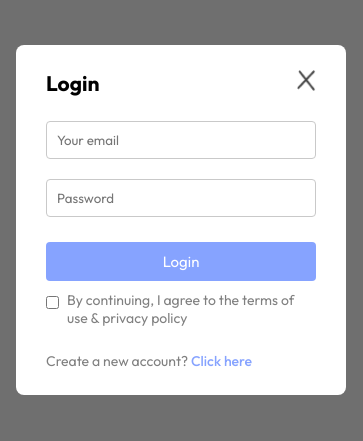
Test: LoginPopup Component › verifying if the popup displays the correct title based on the state
expect the element with test id "login-popup-title" reads "Login": met, box [46,70,100,96]
Click the text with test id "sign-up".
click(222, 361)  # box [191,352,252,370]
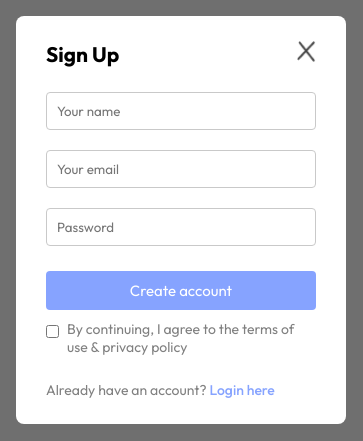
expect the element with test id "login-popup-title" reads "Sign Up": met, box [46,41,119,67]
